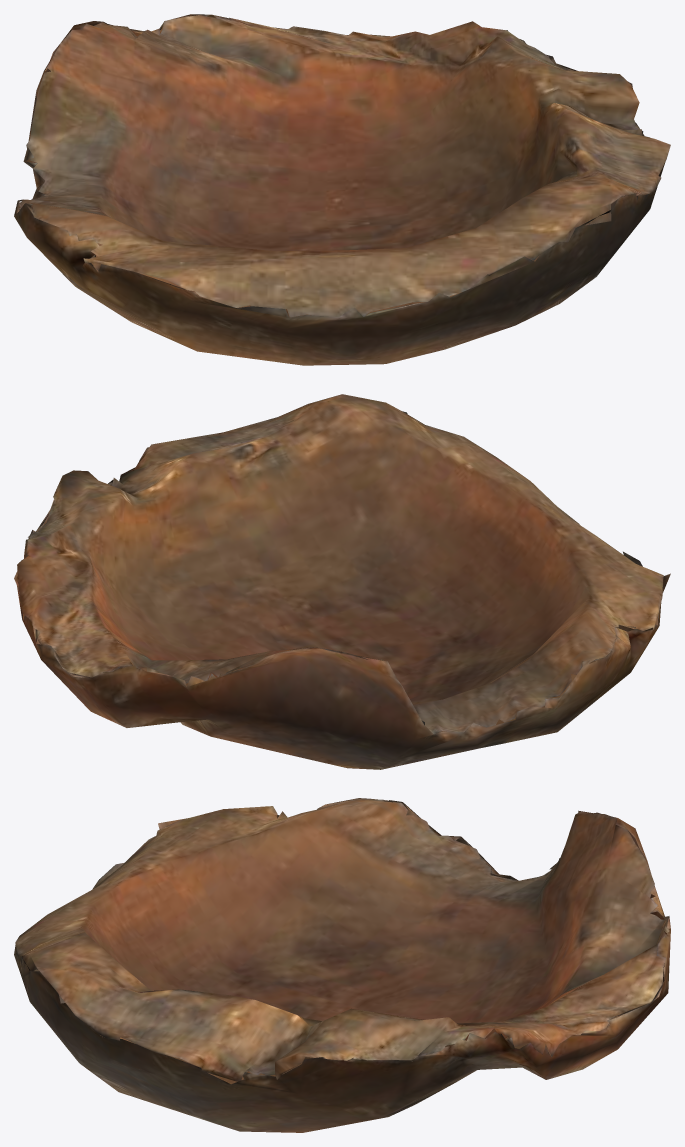
Rendered from isl_bowl.glb.
3 views of the same model, one above another, from view 1: azimuth 30°, elevation 25°; view 2: azimuth 150°, elevation 25°; view 3: azimuth 270°, elevation 25° (orthographic).
Parts seen in each view (by area): view 1: wooden_bowl_01; view 2: wooden_bowl_01; view 3: wooden_bowl_01.
Boxes of the visible parts, x1,y1,x2,y2 form: wooden_bowl_01: [14, 14, 670, 365]; wooden_bowl_01: [14, 394, 670, 769]; wooden_bowl_01: [14, 798, 670, 1132].
Size of the model in its own units: 0.3117 by 0.0934 by 0.3094.
1 material, 1 textured.
